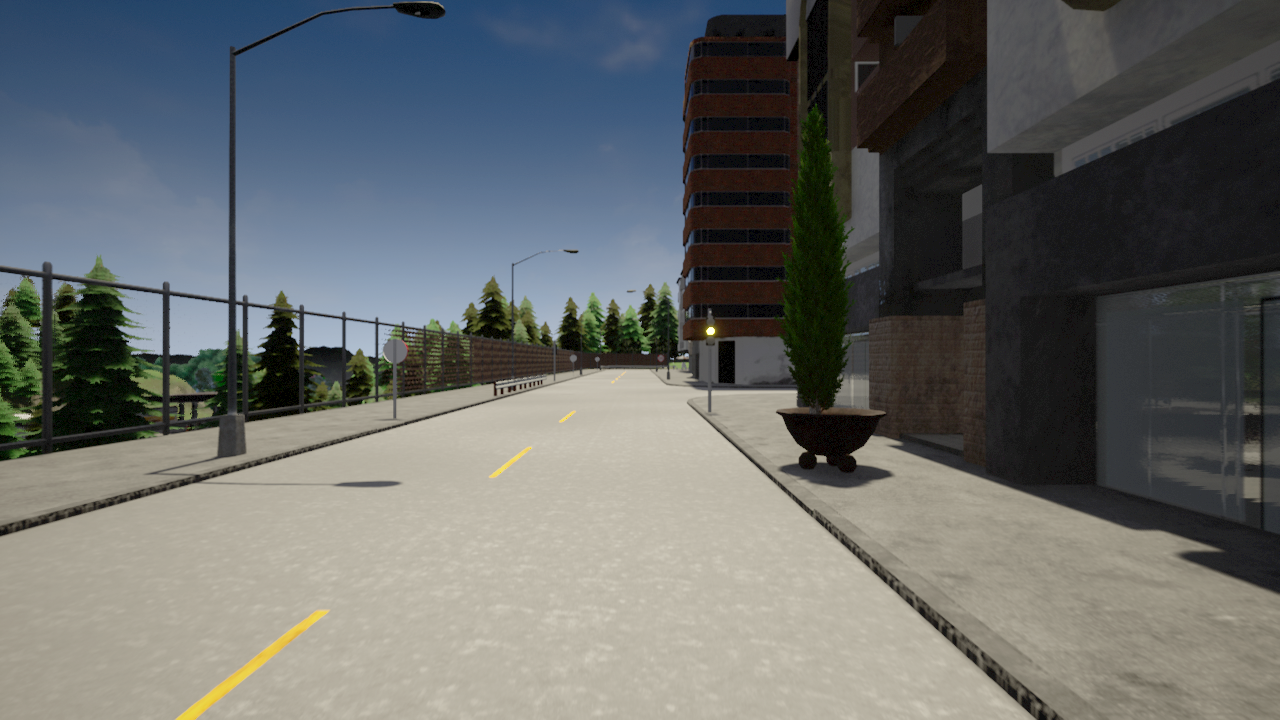yellow: (704, 315, 716, 345)
